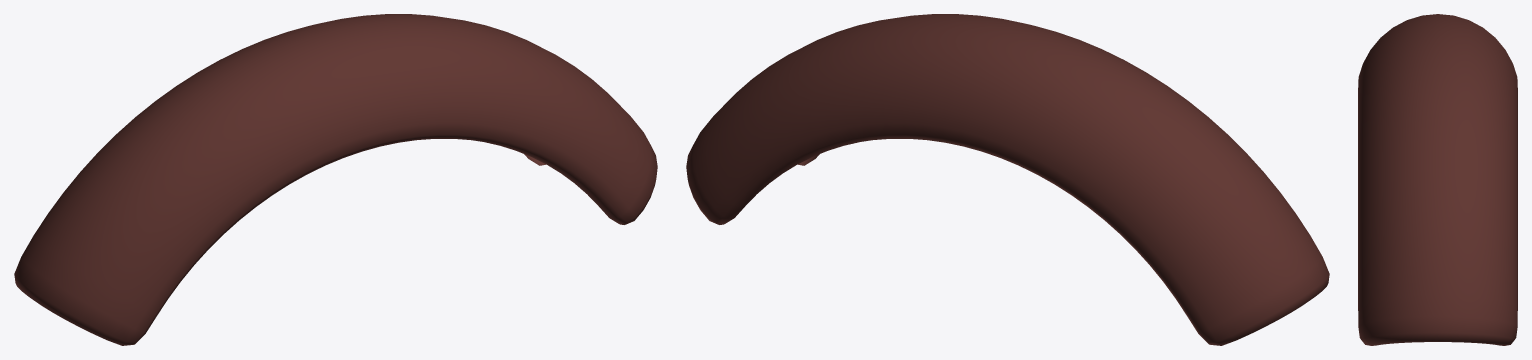
Rendered from Ground_Patch_Large.fbx.
3 views of the same model, side by side, from view 1: azimuth 30°, elevation 25°; view 2: azimuth 150°, elevation 25°; view 3: azimuth 270°, elevation 25° (orthographic). The views are drawn at different scales.
Parts seen in each view (by area): view 1: ForestPlanet_Ground.007; view 2: ForestPlanet_Ground.007; view 3: ForestPlanet_Ground.007.
Part boxes in pixels (left/top/right/bottom): ForestPlanet_Ground.007: left=14, top=14, right=657, bottom=345; ForestPlanet_Ground.007: left=686, top=14, right=1329, bottom=345; ForestPlanet_Ground.007: left=1358, top=14, right=1517, bottom=345.
Bounding box in the file's own units: 219 × 76.26 × 57.44.
